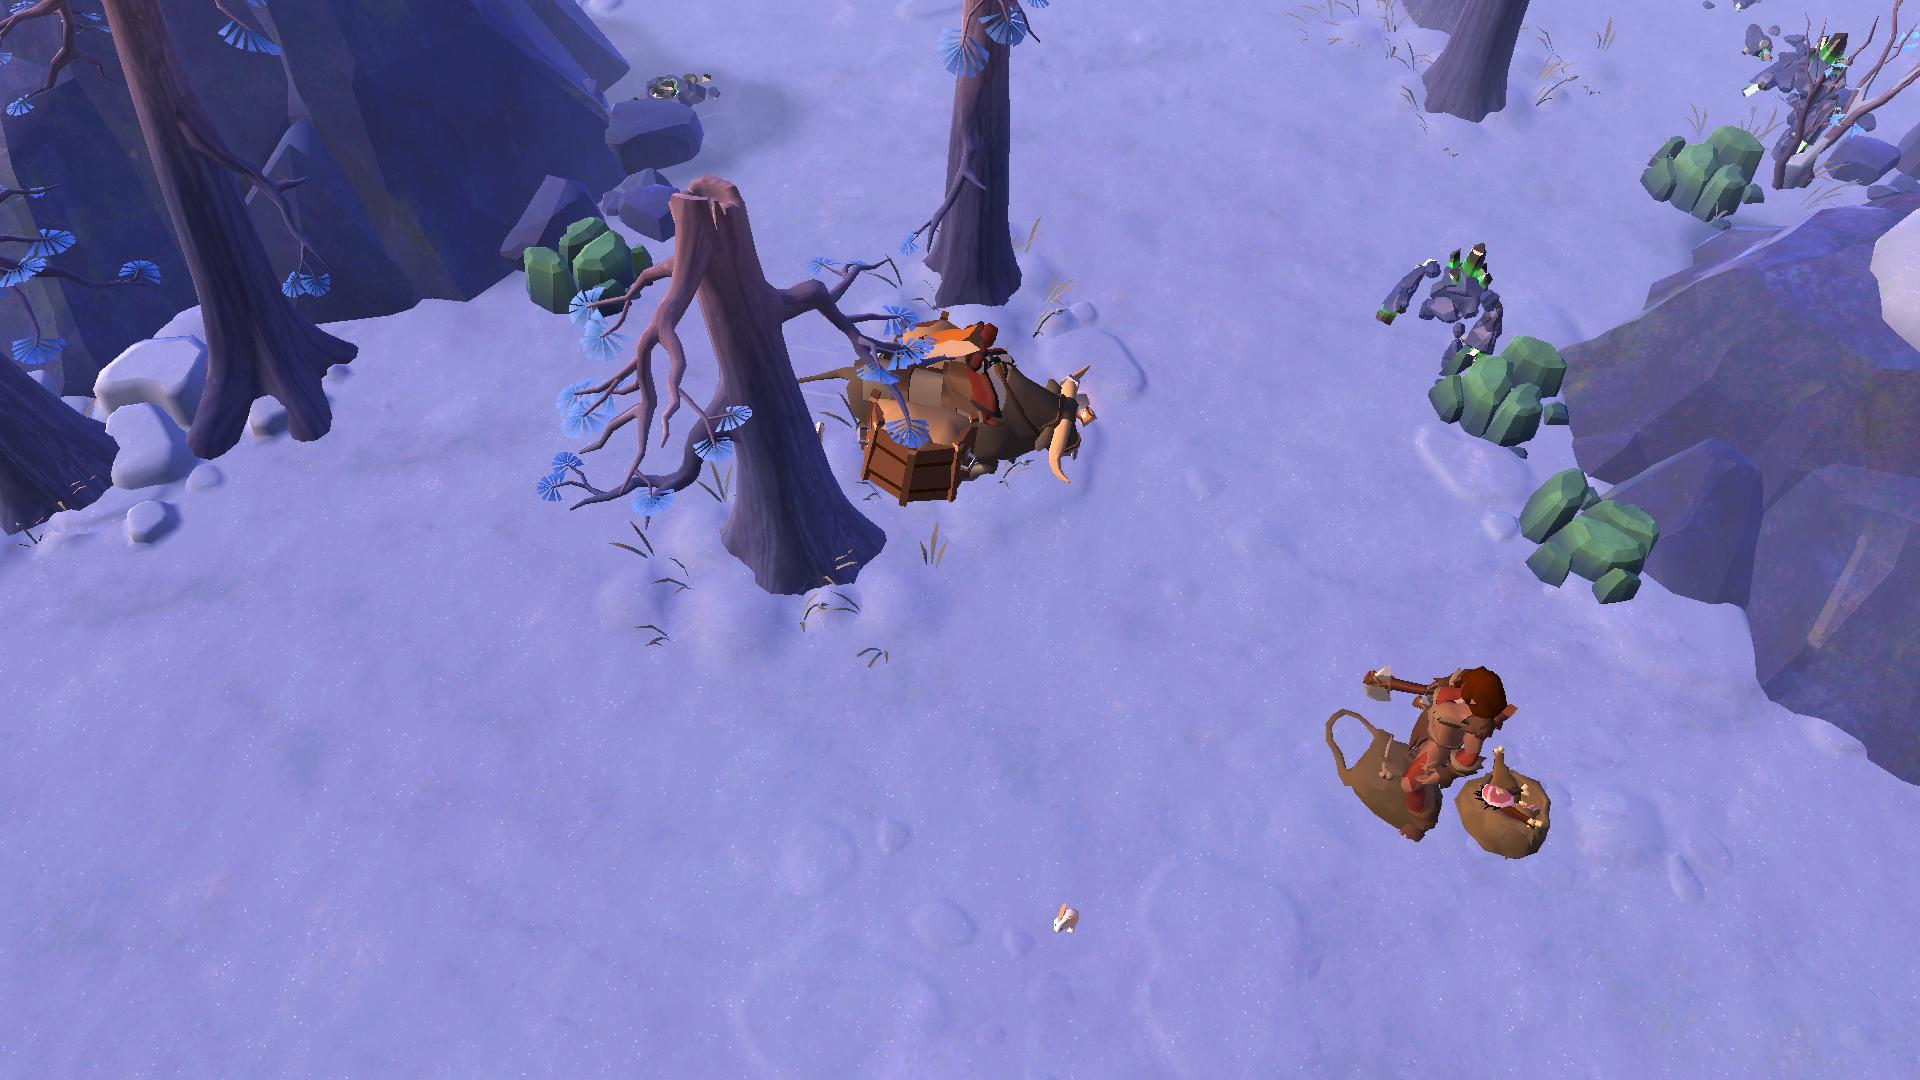enemy_factionKeeper: (1366, 641, 1513, 814)
rock_t3: (1509, 464, 1659, 609), (1419, 327, 1564, 447), (520, 204, 658, 318), (1642, 116, 1772, 223)
